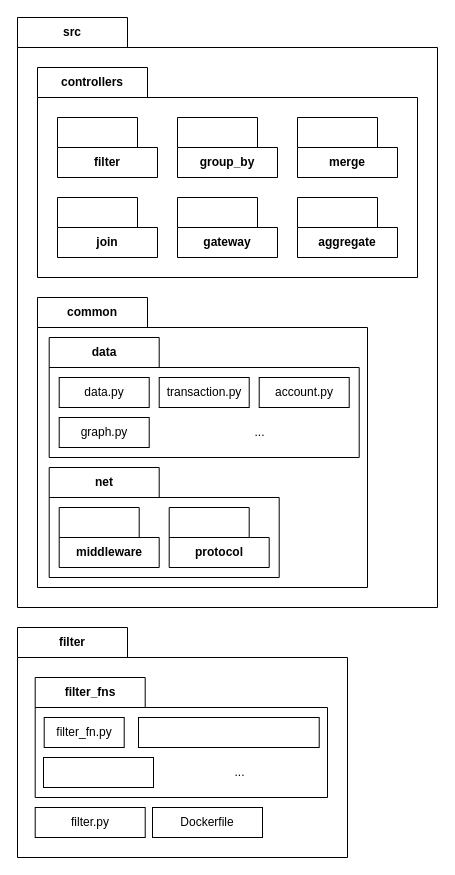
Image size: 455x875. Some labels were removed from this diagram. Each missing label, with the centre of its shape:
filter_by_usd.py: the point at 98,772
filter_by_usd_and_amount.py: the point at 228,732
